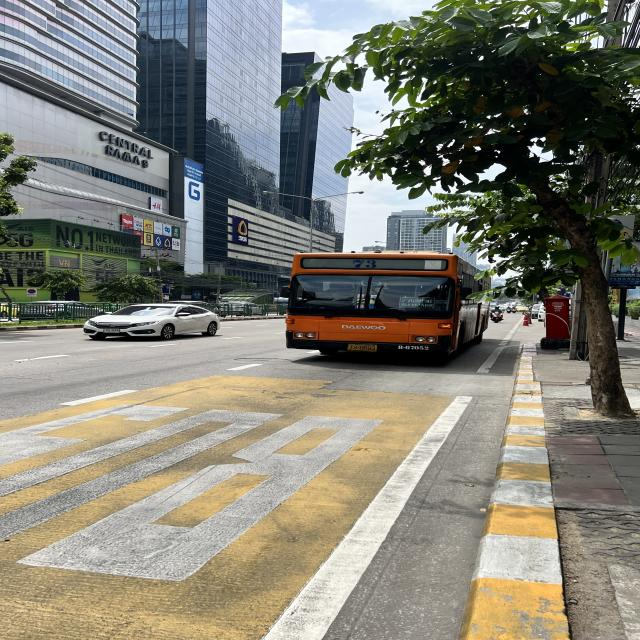BMTA-bus: (284, 250, 489, 365)
Bus Line Number: (344, 257, 385, 271)
Bus Side Number: (395, 343, 431, 351)
Destination Sign: (400, 296, 436, 309)
